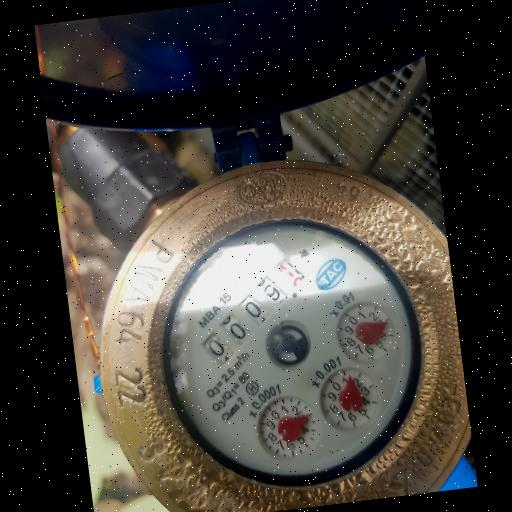0: (200, 329, 236, 368), (236, 291, 272, 329), (219, 311, 253, 347)
1: (272, 254, 308, 292)
9: (254, 273, 290, 311)
border_water_meter_number: (188, 250, 320, 371)
